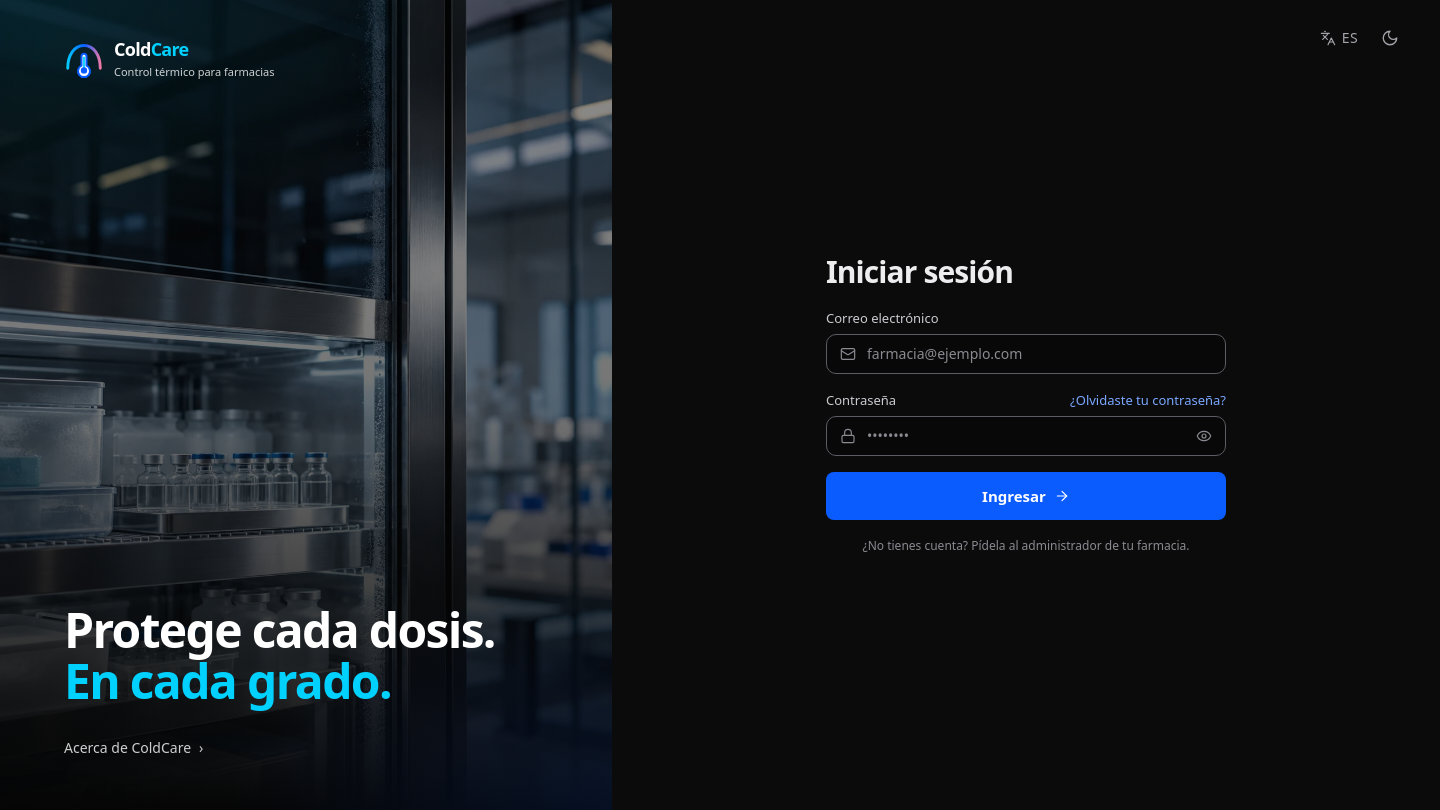
Login con código › con desafío muestra el correo enmascarado, la vigencia y no abre sesión
Type "farmaceutico@upc.pe" into the field labelled "Correo electrónico" at (1026, 354), box [826,334,1226,374]
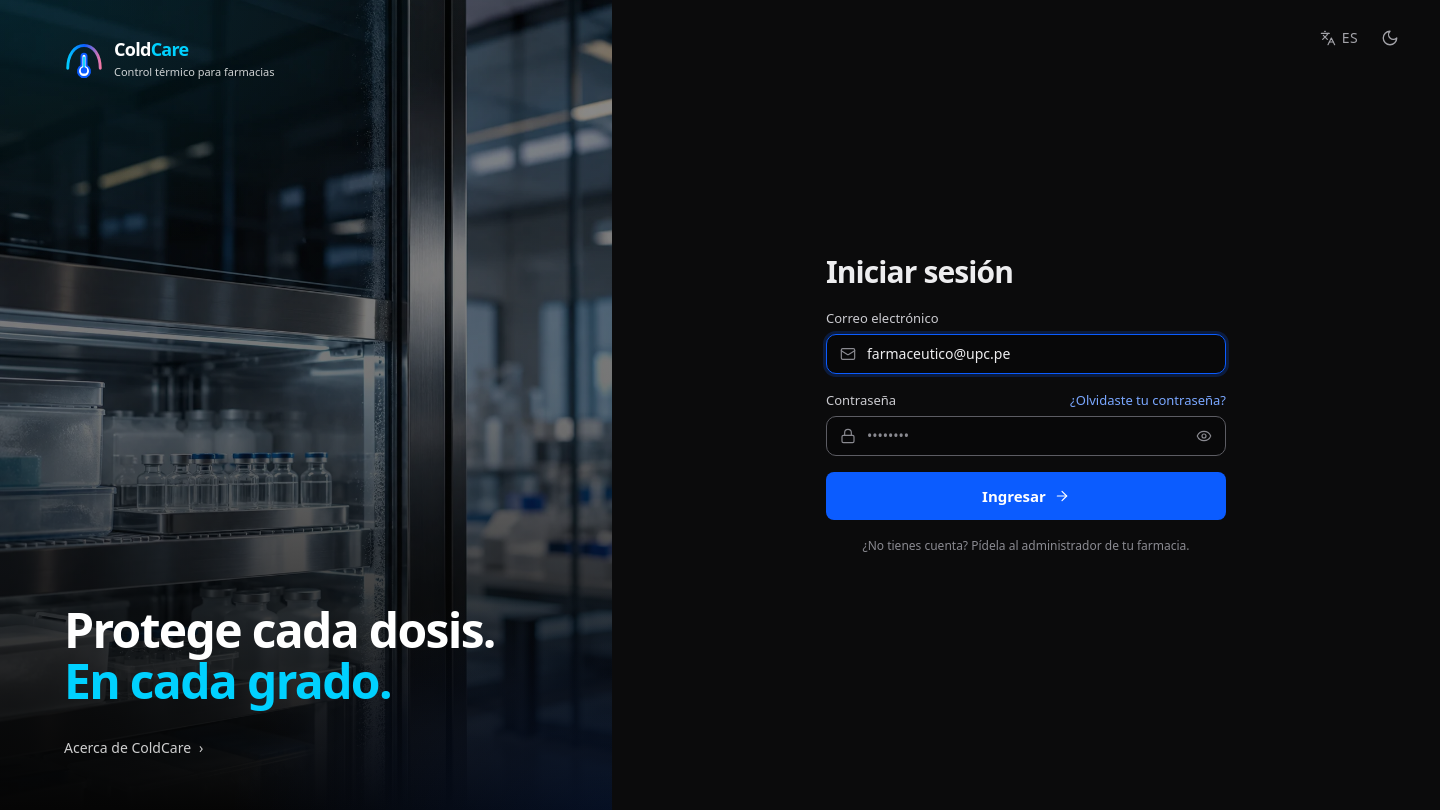
Type "Secreta-2026" into the password field labelled "Contraseña" at (1026, 436), box [826,416,1226,456]
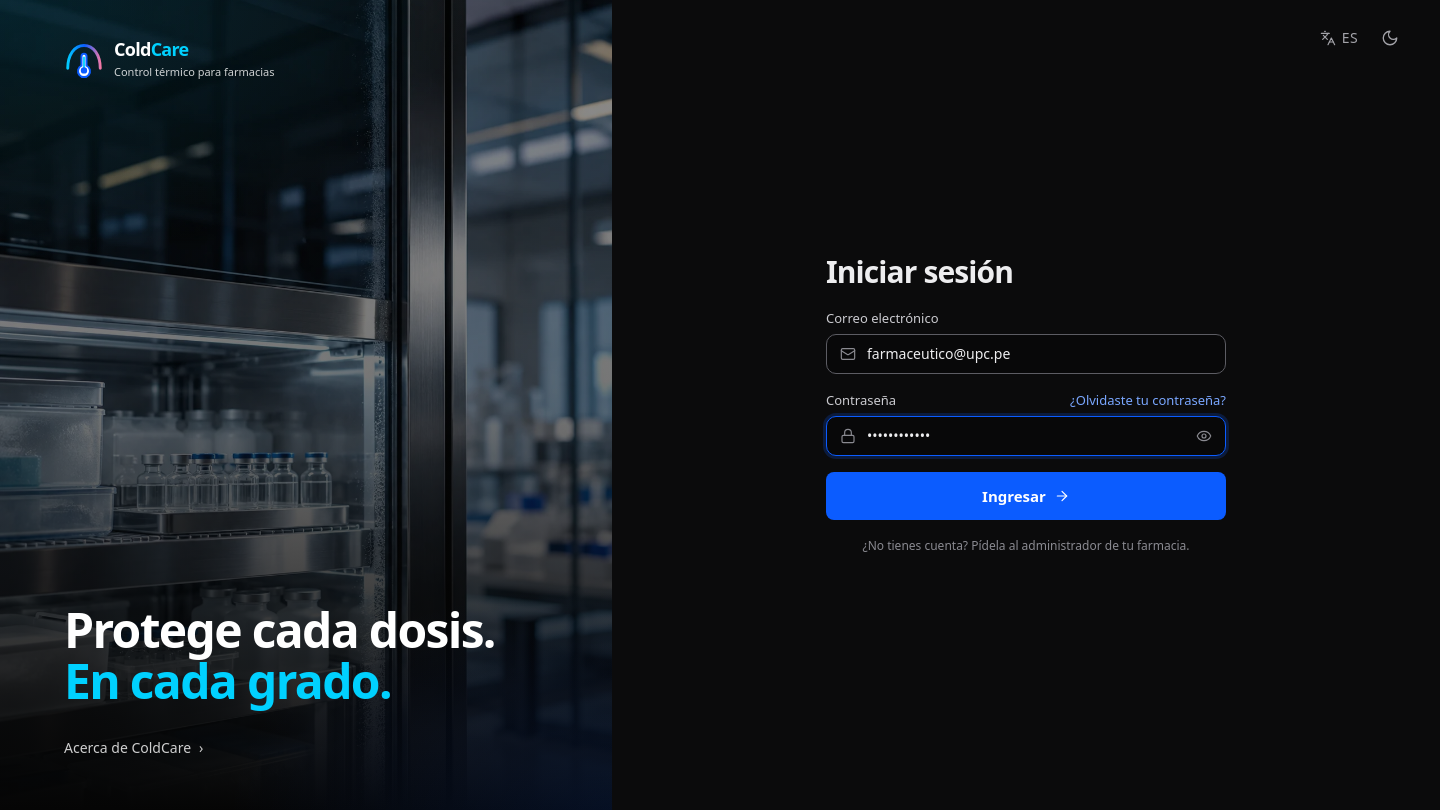
Click the button "Ingresar" at (1026, 496), box [826,472,1226,520]
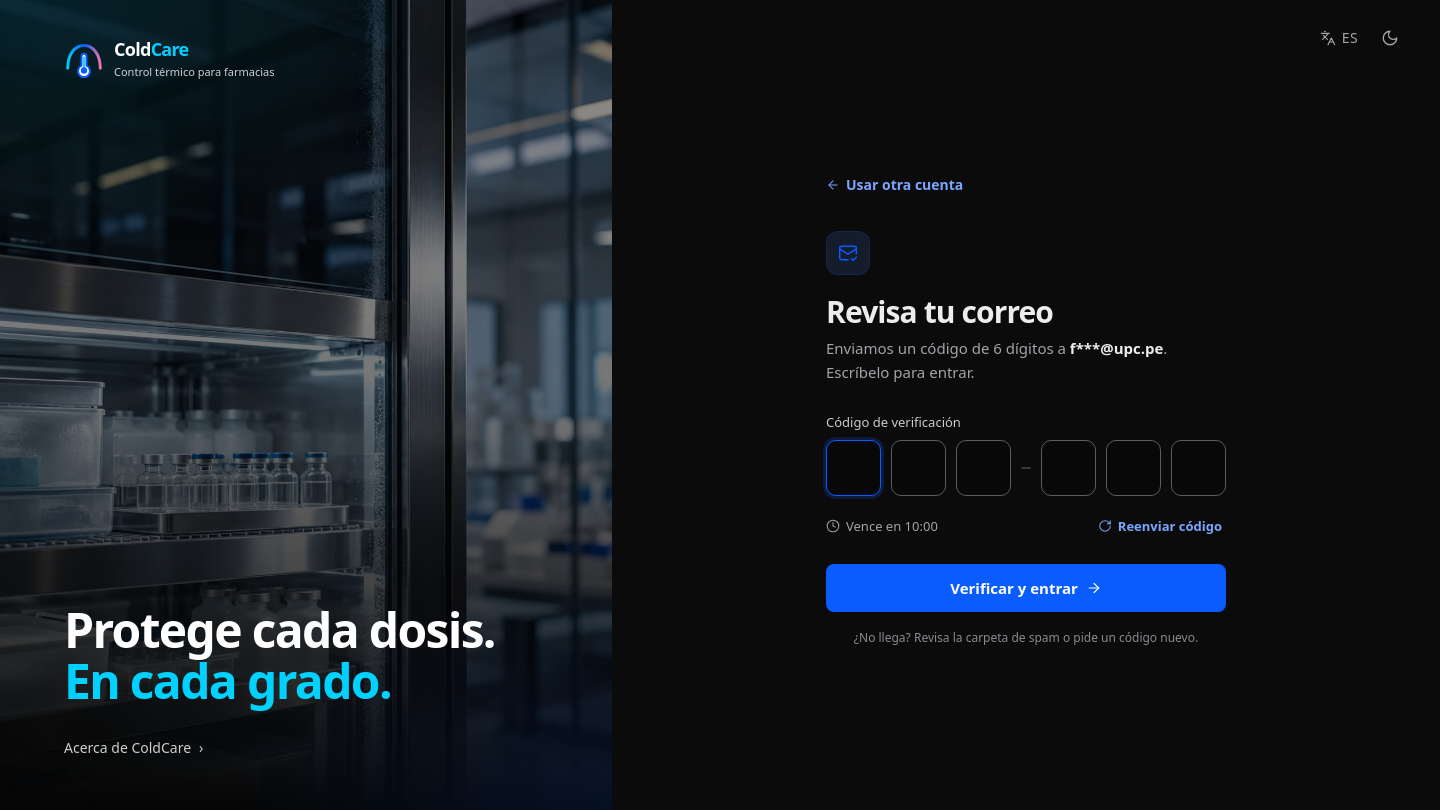
Expected: the heading "Revisa tu correo" is shown, [826,290,1053,332]
Expected: the element with id "login-codigo-ayuda" shows "f***@upc.pe", [1070,338,1163,358]
Expected: the text "Vence en 10:00" is shown, [826,516,938,536]
